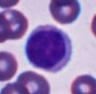L: (26, 24, 72, 72)
